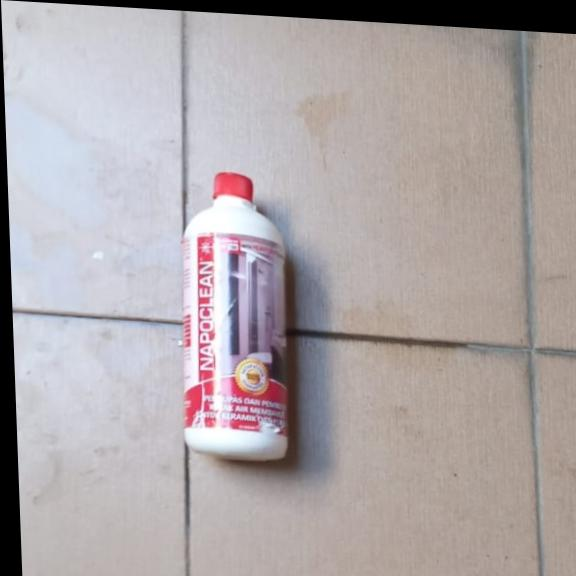Plastik: (175, 169, 290, 462)
